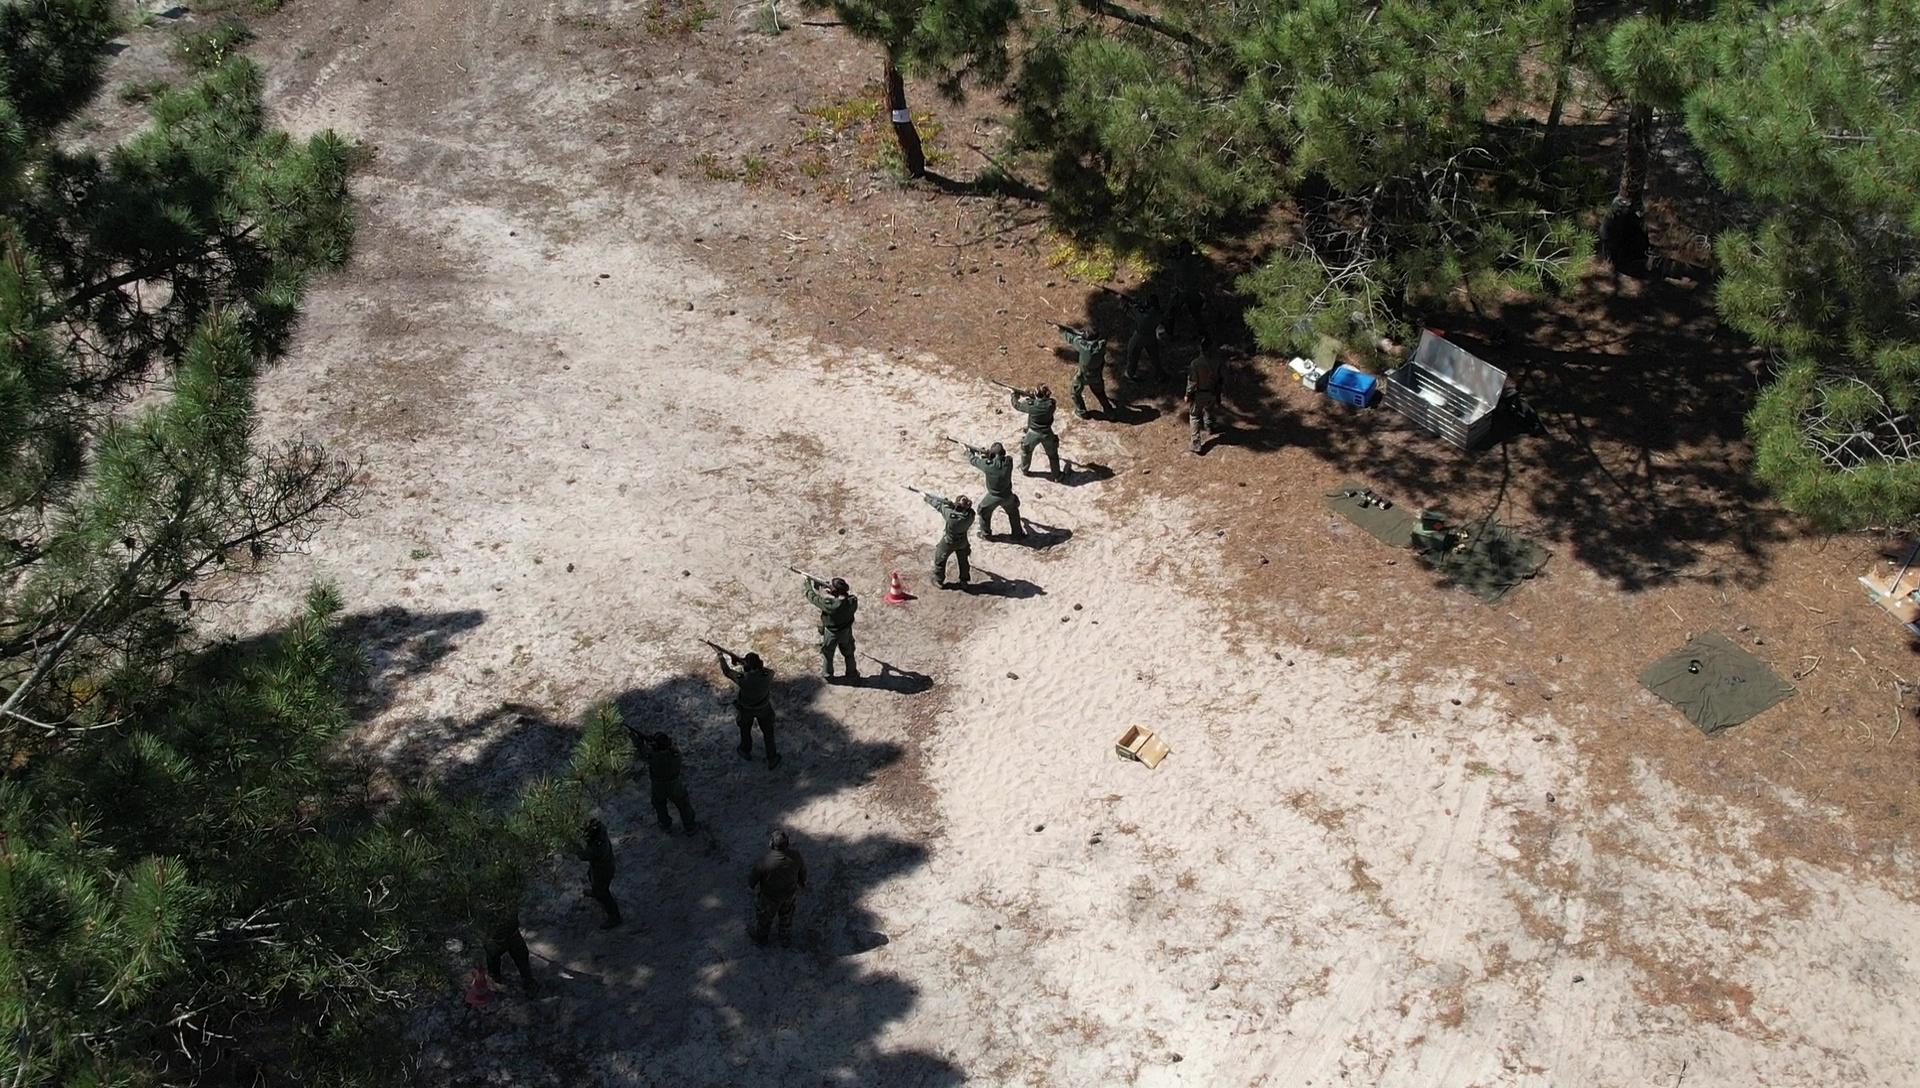Soldier: (708, 622, 796, 765), (738, 837, 823, 968), (794, 571, 878, 692), (1116, 282, 1185, 393), (640, 721, 698, 848), (967, 444, 1034, 551), (1010, 376, 1068, 487), (924, 500, 984, 600), (578, 816, 626, 936), (483, 903, 539, 1005), (1056, 317, 1116, 413), (1178, 356, 1222, 464)
